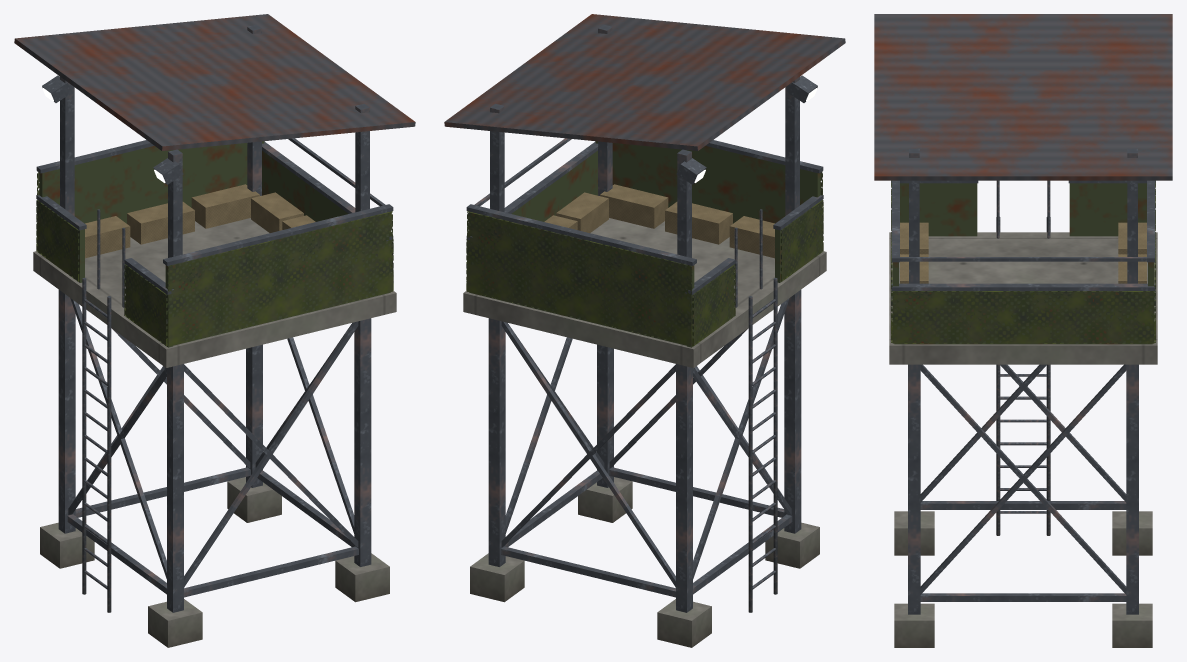
File: map_watchtower.glb
3 views of the same model, side by side, from view 1: azimuth 30°, elevation 25°; view 2: azimuth 150°, elevation 25°; view 3: azimuth 270°, elevation 25° (orthographic).
Parts seen in each view (by area): view 1: watchtower_steel, watchtower_roof, watchtower_camo_net, watchtower_concrete, watchtower_parapet, watchtower_sandbags; view 2: watchtower_steel, watchtower_roof, watchtower_camo_net, watchtower_concrete, watchtower_parapet, watchtower_sandbags; view 3: watchtower_roof, watchtower_steel, watchtower_concrete, watchtower_camo_net, watchtower_parapet, watchtower_sandbags.
Part boxes in pixels (x1,y1,x2,y2): watchtower_steel: (36,24,393,612); watchtower_roof: (14,14,415,150); watchtower_camo_net: (36,171,393,346); watchtower_concrete: (33,218,396,647); watchtower_parapet: (38,141,390,347); watchtower_sandbags: (85,184,315,258); watchtower_steel: (466,24,823,612); watchtower_roof: (444,14,845,150); watchtower_camo_net: (466,171,823,346); watchtower_concrete: (463,218,826,647); watchtower_parapet: (469,141,821,347); watchtower_sandbags: (544,184,774,258); watchtower_roof: (874,14,1172,180); watchtower_steel: (891,148,1155,614); watchtower_concrete: (889,232,1157,647); watchtower_camo_net: (891,180,1155,343); watchtower_parapet: (893,183,1153,344); watchtower_sandbags: (900,222,1146,283).
Size of the model in its own units: 3.52 by 6.8 by 3.55.
Materials: 7 (6 with a texture image).
